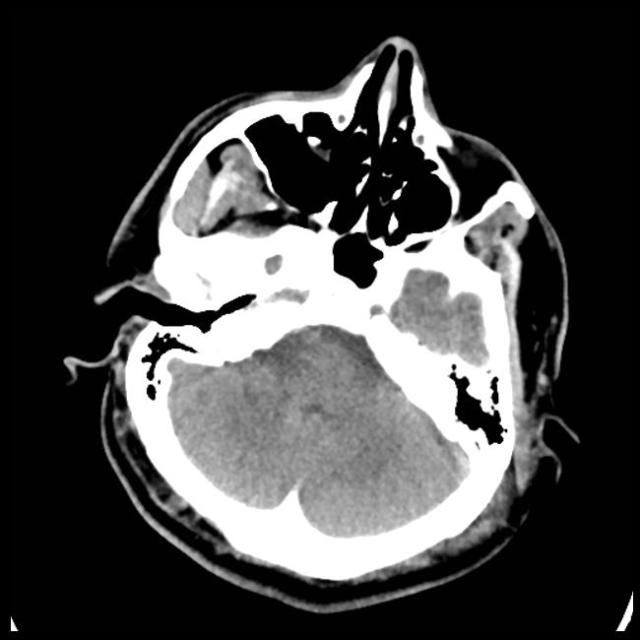lesion: (69, 33, 579, 610)
